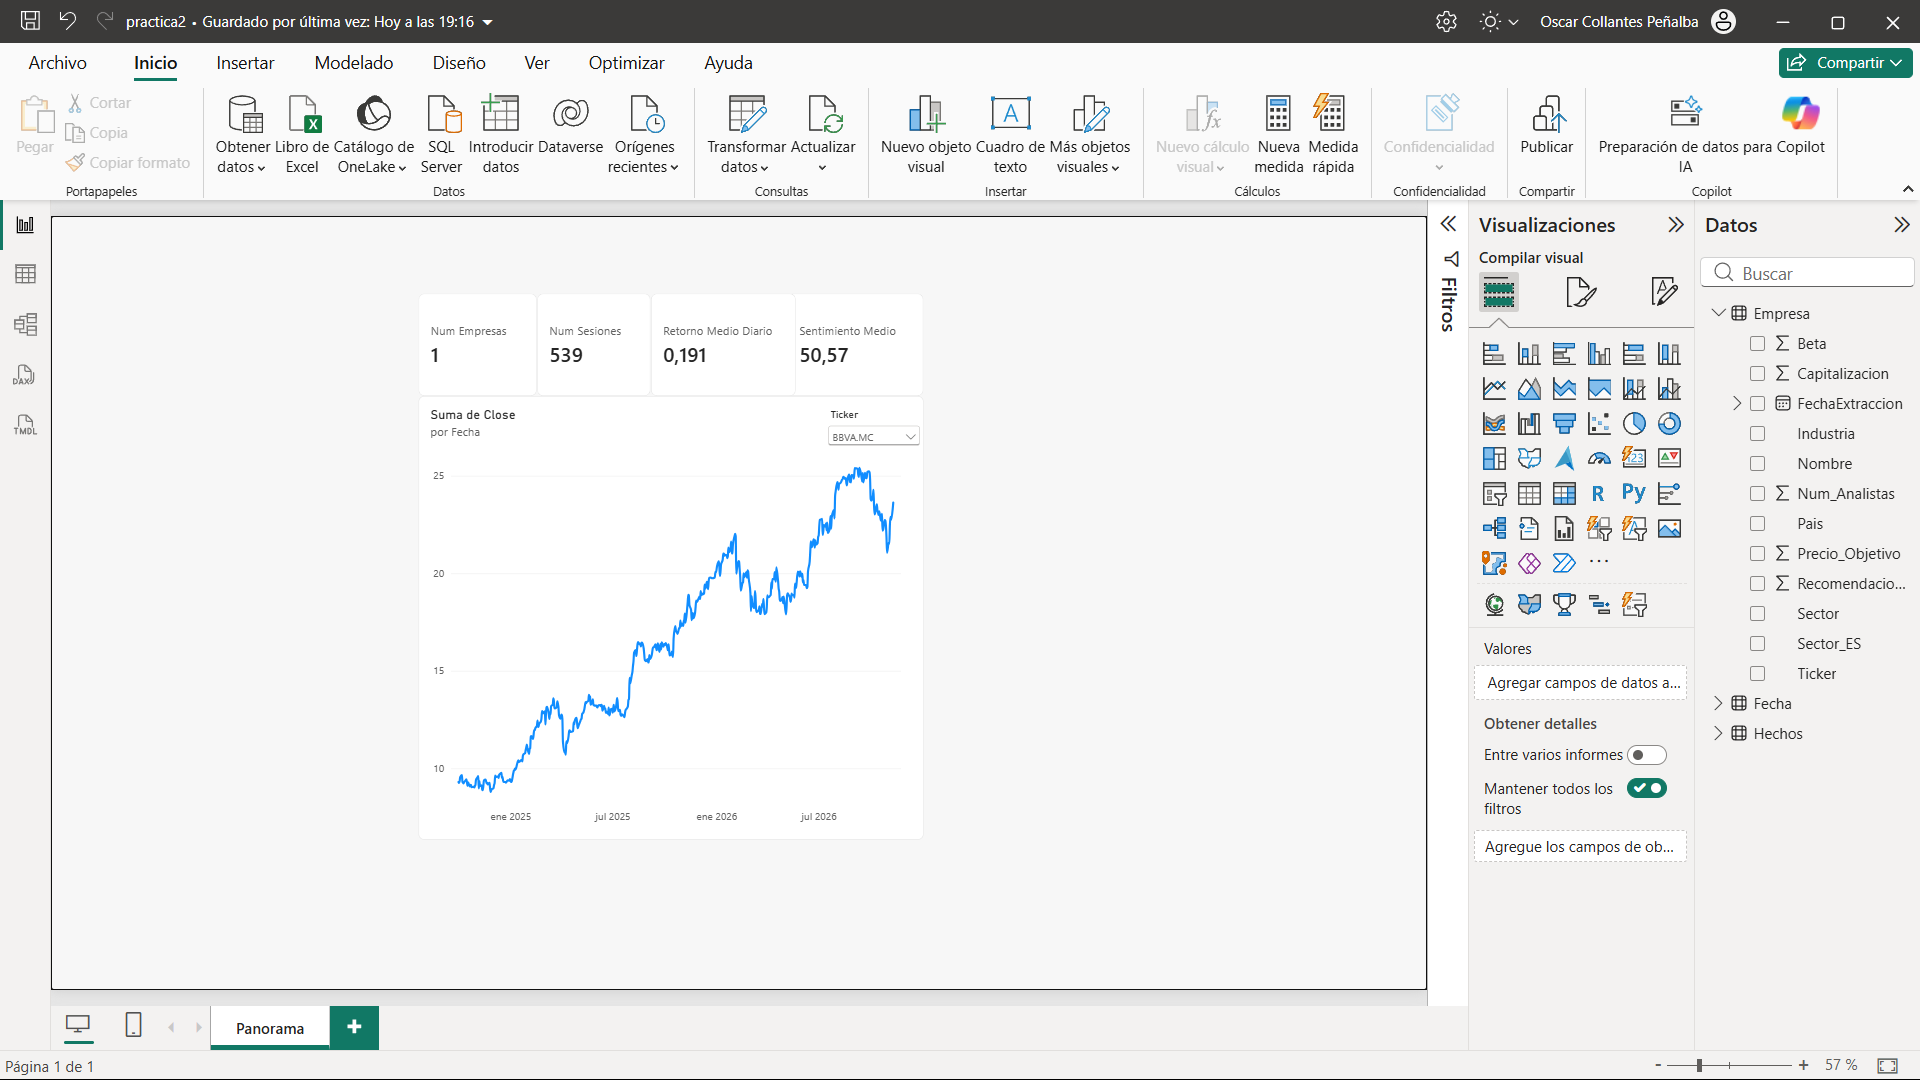

What the dashboard file says about the page in this screenshot:
{"tool":"powerbi","page":{"name":"Panorama","canvas":[1920,1080],"ordinal":0},"visuals":[{"type":"cardVisual","fields":{"Data":["Hechos.Num Empresas"]},"box":[-0.7,-0.7,165.7,143],"z":0},{"type":"cardVisual","fields":{"Data":["Hechos.Sentimiento Medio"]},"box":[513.8,-0.7,190.1,143],"z":1000},{"type":"cardVisual","fields":{"Data":["Hechos.Retorno Medio Diario"]},"box":[323.7,-0.7,202.3,143],"z":2000},{"type":"cardVisual","fields":{"Data":["Hechos.Num Sesiones"]},"box":[165,-0.7,158.7,143],"z":3000},{"type":"lineChart","fields":{"Category":["Fecha.Fecha"],"Y":["Avg(Hechos.Close)"]},"box":[-0.7,142.3,704.7,619.2],"z":4000},{"type":"slicer","fields":{"Values":["Empresa.Ticker"]},"box":[566.2,159.8,137.8,59.3],"z":5000}]}

Visuals, with their boxes on the page's 1920x1080 design canvas (x1, y1, x2, y2). These are canvas units, not pixel positions in the 1920x1080 screenshot, which may show the page scaled, cropped or inside an application window:
cardVisual - Hechos.Num Empresas: -1/-1/165/142
cardVisual - Hechos.Sentimiento Medio: 514/-1/704/142
cardVisual - Hechos.Retorno Medio Diario: 324/-1/526/142
cardVisual - Hechos.Num Sesiones: 165/-1/324/142
lineChart - Fecha.Fecha x Avg(Hechos.Close): -1/142/704/762
slicer - Empresa.Ticker: 566/160/704/219
